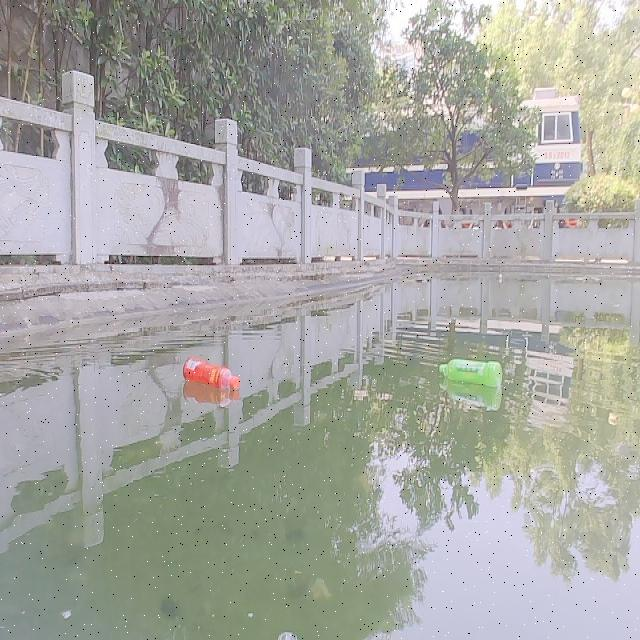Bottle: (435, 354, 503, 390), (181, 355, 240, 389)
